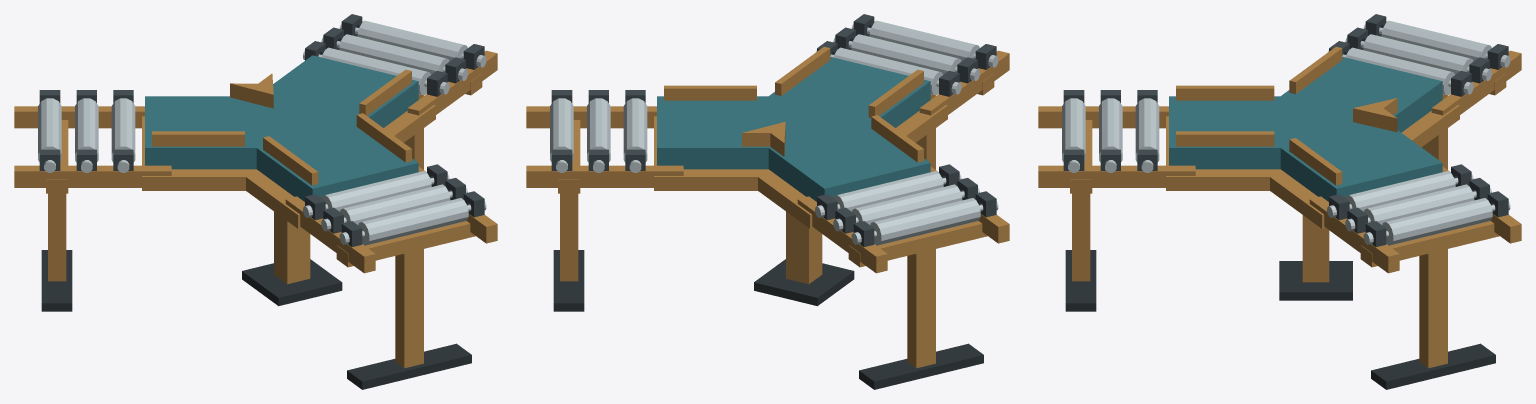
The picture shows the model from 3 angles, left to right: view 1: azimuth 30°, elevation 25°; view 2: azimuth 150°, elevation 25°; view 3: azimuth 270°, elevation 25°; orthographic projection.
Parts seen in each view (by area): view 1: TransferDeck_ContinuousThickY, Underframe_ContinuousThickY, Inlet_Upright, Inlet_FixedRoller3, LeftOutlet_SideBeam_+1, Inlet_Foot, CentralFoot, CentralUpright, Inlet_FixedRoller1, RightOutlet_FixedRoller2, RightOutlet_FixedRoller3, Inlet_FixedRoller2 (+19 smaller); view 2: TransferDeck_ContinuousThickY, Underframe_ContinuousThickY, LeftOutlet_Upright, LeftOutlet_FixedRoller3, RightOutlet_SideBeam_+1, LeftOutlet_Foot, CentralFoot, CentralUpright, LeftOutlet_FixedRoller1, Inlet_FixedRoller2, Inlet_FixedRoller3, LeftOutlet_FixedRoller2 (+19 smaller); view 3: TransferDeck_ContinuousThickY, Underframe_ContinuousThickY, RightOutlet_Upright, RightOutlet_FixedRoller3, Inlet_SideBeam_+1, RightOutlet_Foot, CentralFoot, RightOutlet_FixedRoller1, LeftOutlet_FixedRoller2, LeftOutlet_FixedRoller3, RightOutlet_FixedRoller2, RightOutlet_TransverseBearer (+19 smaller).
Part boxes in pixels (x1,y1,x2,y2): TransferDeck_ContinuousThickY: (145,55,418,201); Underframe_ContinuousThickY: (142,105,435,228); Inlet_Upright: (395,249,423,368); Inlet_FixedRoller3: (339,198,486,245); LeftOutlet_SideBeam_+1: (14,165,171,187); Inlet_Foot: (347,343,471,389); CentralFoot: (242,259,342,306); CentralUpright: (274,211,310,284); Inlet_FixedRoller1: (303,171,449,217); RightOutlet_FixedRoller2: (321,34,467,80); RightOutlet_FixedRoller3: (339,20,486,67); Inlet_FixedRoller2: (321,184,467,231); TransferDeck_ContinuousThickY: (657,57,930,201); Underframe_ContinuousThickY: (654,105,947,228); LeftOutlet_Upright: (907,249,935,368); LeftOutlet_FixedRoller3: (851,198,998,245); RightOutlet_SideBeam_+1: (526,165,683,187); LeftOutlet_Foot: (859,343,983,389); CentralFoot: (754,259,854,306); CentralUpright: (786,211,822,284); LeftOutlet_FixedRoller1: (815,171,961,217); Inlet_FixedRoller2: (833,34,979,80); Inlet_FixedRoller3: (851,20,998,67); LeftOutlet_FixedRoller2: (833,184,979,231); TransferDeck_ContinuousThickY: (1169,57,1442,201); Underframe_ContinuousThickY: (1166,105,1459,228); RightOutlet_Upright: (1419,249,1447,368); RightOutlet_FixedRoller3: (1363,198,1510,245); Inlet_SideBeam_+1: (1038,165,1195,187); RightOutlet_Foot: (1371,343,1495,389); CentralFoot: (1279,261,1352,300); RightOutlet_FixedRoller1: (1327,171,1473,217); LeftOutlet_FixedRoller2: (1345,34,1491,80); LeftOutlet_FixedRoller3: (1363,20,1510,67); RightOutlet_FixedRoller2: (1345,184,1491,231); RightOutlet_TransverseBearer: (1360,221,1499,267).
Size of the model in its own units: 2.73 by 0.955 by 2.37.
